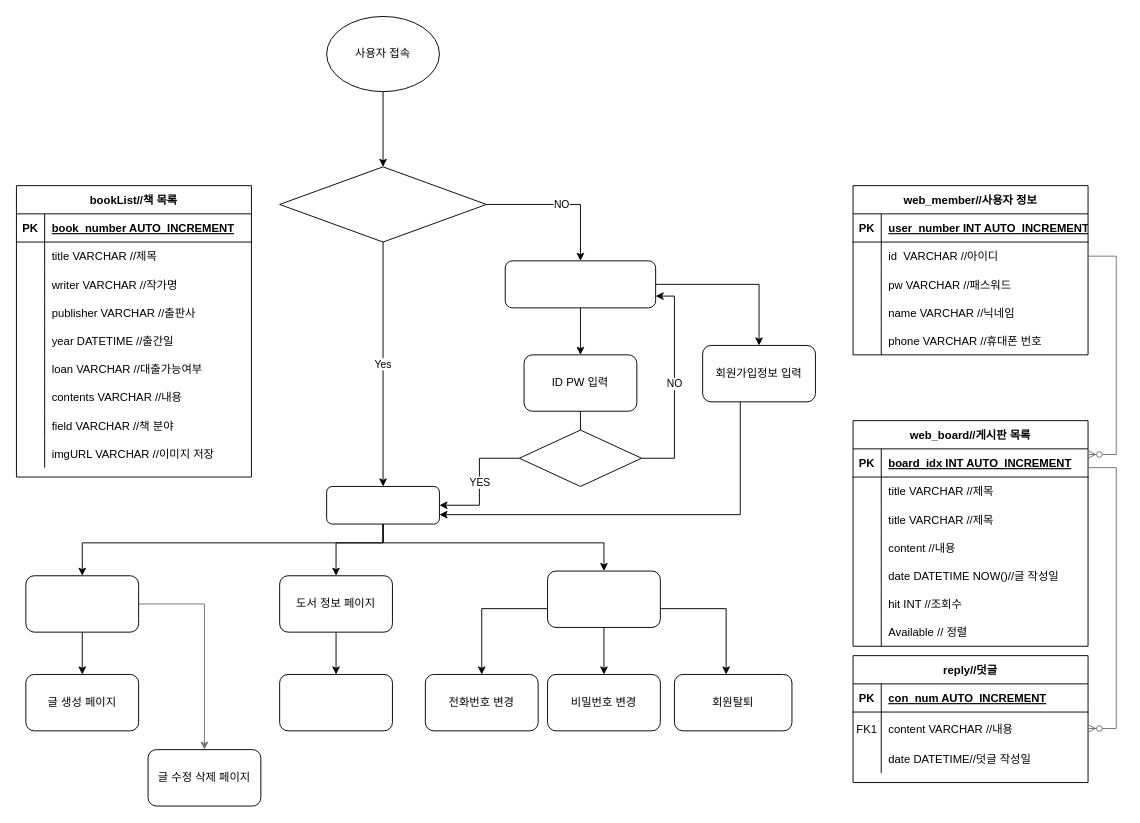
Some shapes in this 1140 by 823 pixel diagram are drawn without their labels. The shapes that lost their labels are listed below. From the top down, each one's centre as x and y in pixels, then its label:
At [382,204]: "로그인 정보 세션 저장여부".
At [580,284]: "로그인 회원가입 페이지".
At [580,457]: "ID가 맞는가".
At [382,505]: "메인 페이지".
At [82,603]: "자유게시판 페이지".
At [603,598]: "사용자 정보 페이지".
At [335,702]: "도서 추가 페이지".
